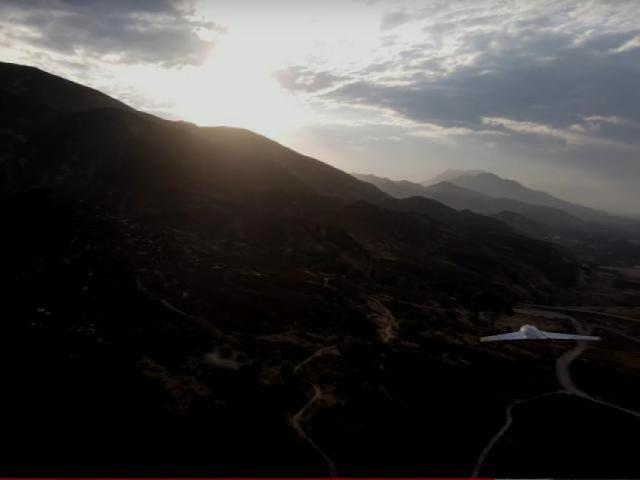iha: (475, 316, 603, 354)
